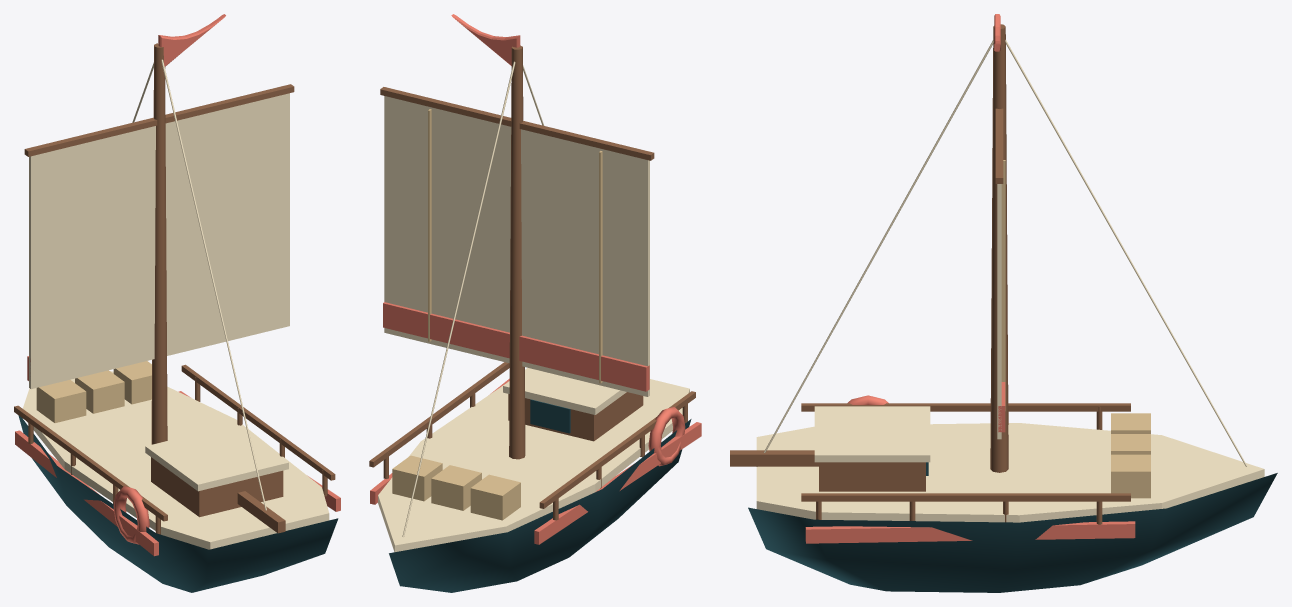
Rendered from vessel-cargo.glb.
3 views of the same model, side by side, from view 1: azimuth 30°, elevation 25°; view 2: azimuth 150°, elevation 25°; view 3: azimuth 270°, elevation 25° (orthographic). The views are drawn at different scales.
Visible parts, largest first — view 1: cargo-square-sail, laid-deck, lapstrake-hull, cabin-roof, main-mast, supply-crate (×3), cabin, gunwale (×2), cargo-yard, painted-waterline, backstay, life-ring (+2 smaller); view 2: cargo-square-sail, laid-deck, lapstrake-hull, sail-reef-band, main-mast, supply-crate (×3), gunwale (×2), cabin-roof, cargo-yard, cabin, painted-waterline, cloth-seam (×2) (+4 smaller); view 3: laid-deck, lapstrake-hull, cabin-roof, gunwale (×2), main-mast, painted-waterline, supply-crate (×3), cabin, rudder-tiller, forestay, cargo-square-sail, backstay (+1 smaller).
Boxes of the visible parts, x1=… form: cargo-square-sail: x1=29, y1=93, x2=289, y2=389; laid-deck: x1=23, y1=371, x2=329, y2=549; lapstrake-hull: x1=18, y1=415, x2=338, y2=592; cabin-roof: x1=145, y1=424, x2=288, y2=491; main-mast: x1=151, y1=43, x2=167, y2=444; supply-crate (×3): x1=36, y1=361, x2=151, y2=422; cabin: x1=151, y1=457, x2=283, y2=517; gunwale (×2): x1=14, y1=364, x2=335, y2=521; cargo-yard: x1=24, y1=84, x2=294, y2=156; painted-waterline: x1=15, y1=430, x2=158, y2=556; backstay: x1=161, y1=59, x2=266, y2=510; life-ring: x1=113, y1=486, x2=149, y2=544; cargo-square-sail: x1=384, y1=96, x2=649, y2=396; laid-deck: x1=378, y1=379, x2=689, y2=552; lapstrake-hull: x1=389, y1=419, x2=691, y2=592; sail-reef-band: x1=383, y1=302, x2=649, y2=391; main-mast: x1=509, y1=45, x2=525, y2=459; supply-crate (×3): x1=392, y1=455, x2=520, y2=520; gunwale (×2): x1=369, y1=362, x2=695, y2=508; cabin-roof: x1=503, y1=368, x2=626, y2=414; cargo-yard: x1=380, y1=87, x2=654, y2=160; cabin: x1=508, y1=392, x2=643, y2=441; painted-waterline: x1=534, y1=422, x2=701, y2=544; cloth-seam (×2): x1=428, y1=109, x2=602, y2=383; laid-deck: x1=756, y1=423, x2=1264, y2=522; lapstrake-hull: x1=748, y1=473, x2=1277, y2=592; cabin-roof: x1=814, y1=406, x2=930, y2=462; gunwale (×2): x1=801, y1=403, x2=1130, y2=501; main-mast: x1=990, y1=24, x2=1008, y2=472; painted-waterline: x1=805, y1=521, x2=1135, y2=543; supply-crate (×3): x1=1111, y1=413, x2=1150, y2=498; cabin: x1=819, y1=462, x2=925, y2=491; rudder-tiller: x1=730, y1=450, x2=818, y2=466; forestay: x1=1005, y1=40, x2=1247, y2=466; cargo-square-sail: x1=997, y1=184, x2=1001, y2=439; backstay: x1=756, y1=40, x2=993, y2=466.
Size of the model in its own units: 7.6 by 13.78 by 12.3.
